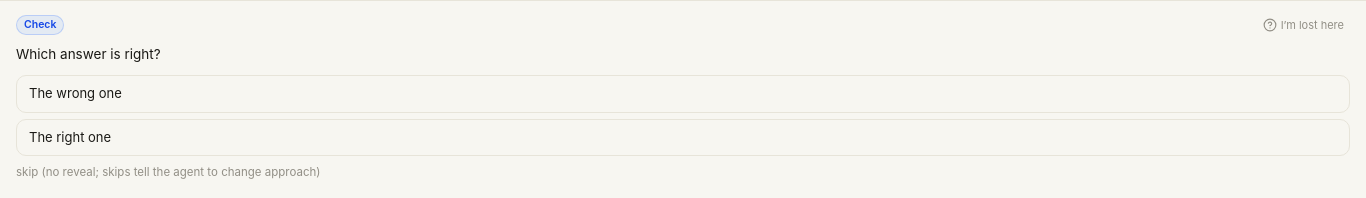
Test: CheckpointPart › skip records an attempt but never shows the reveal
The width and height of the screenshot is (1366, 198).
Click the button "skip (no reveal; skips tell the agent to change approach)": coordinates (168, 173) [16, 164, 320, 182]
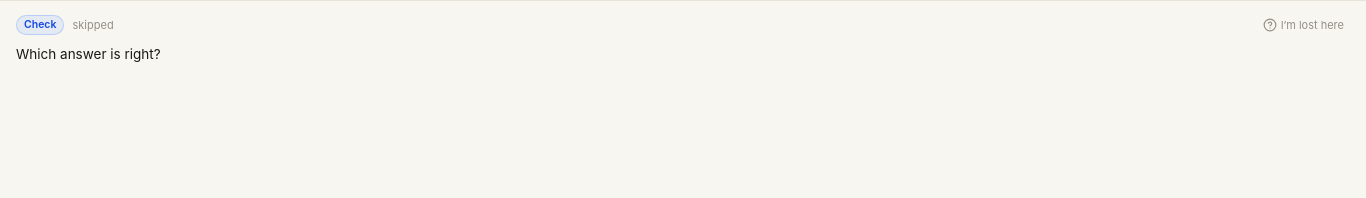
Expected: the text "skipped" is shown, [72, 17, 114, 34]
